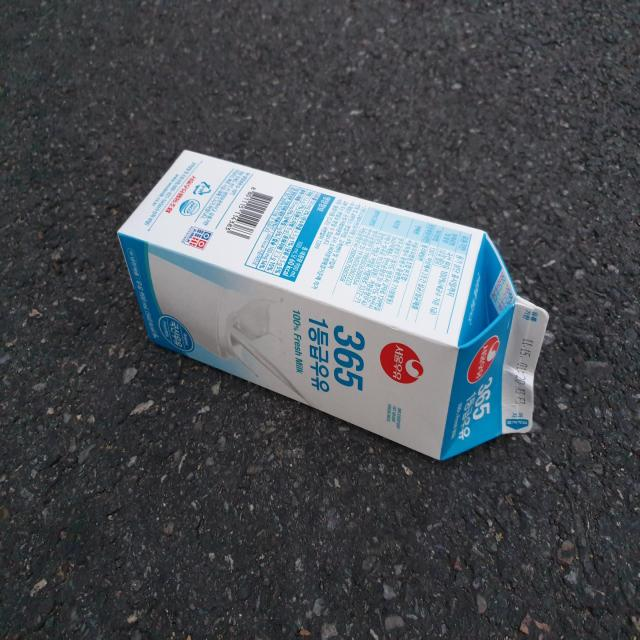paperpack: (118, 150, 549, 459)
